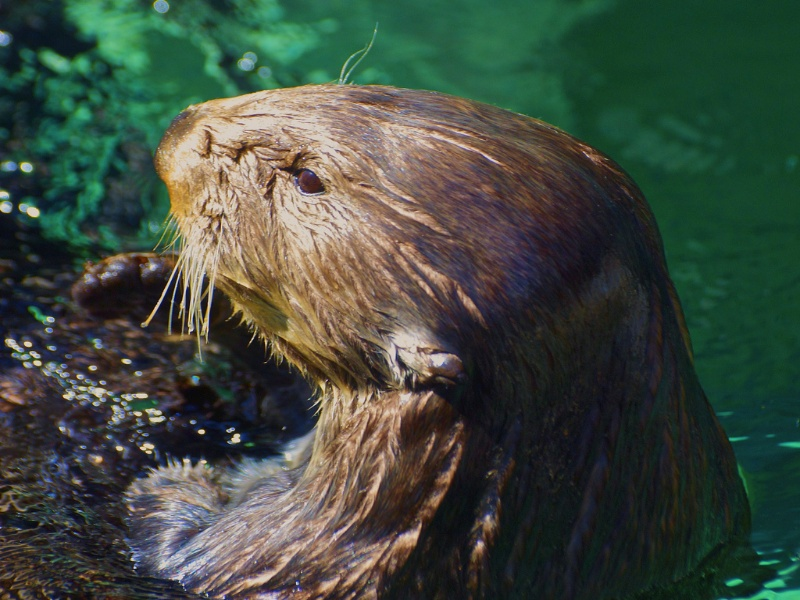minkish: (73, 49, 758, 592)
